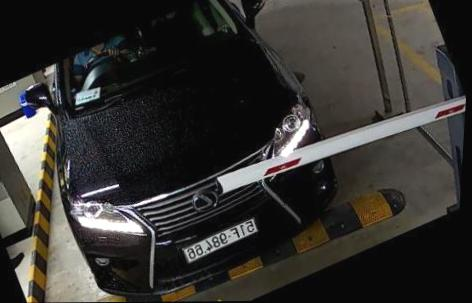License_Plate: (180, 213, 263, 268)
